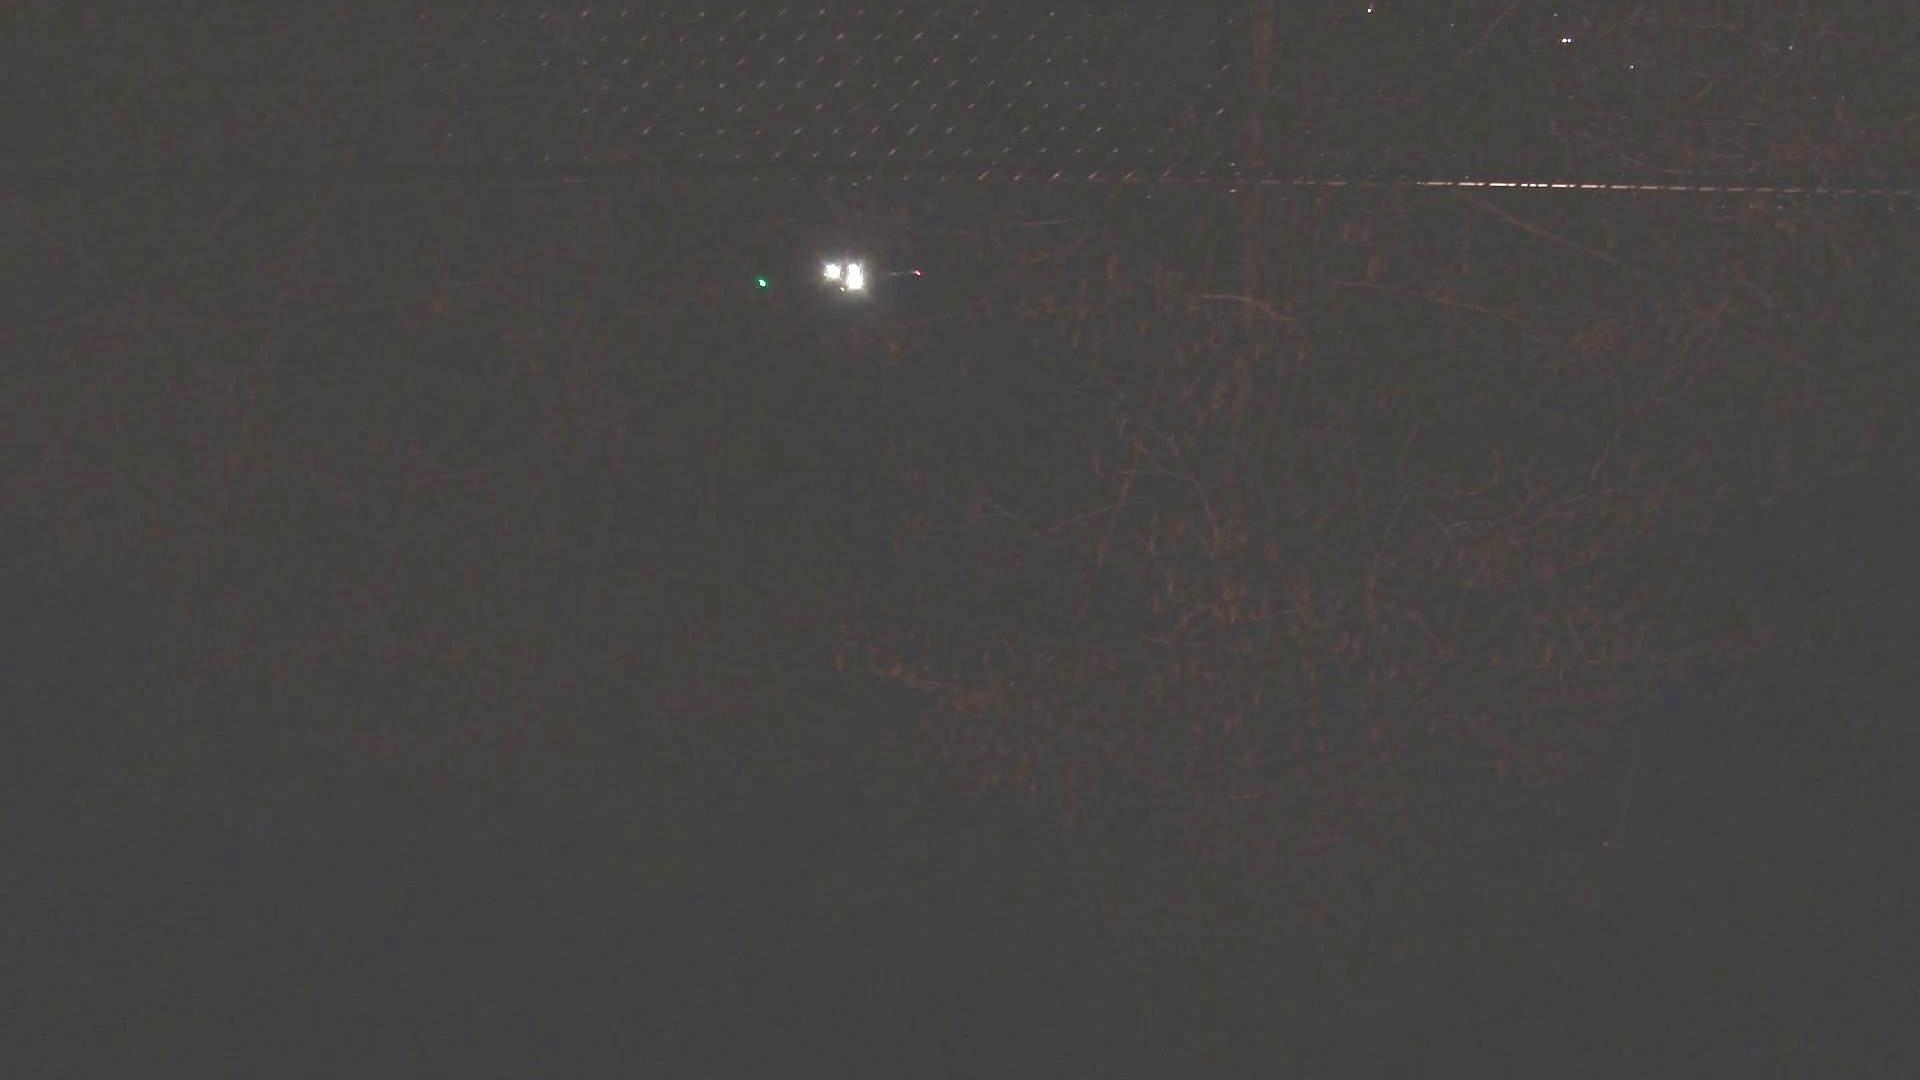Plane: (742, 243, 960, 299)
